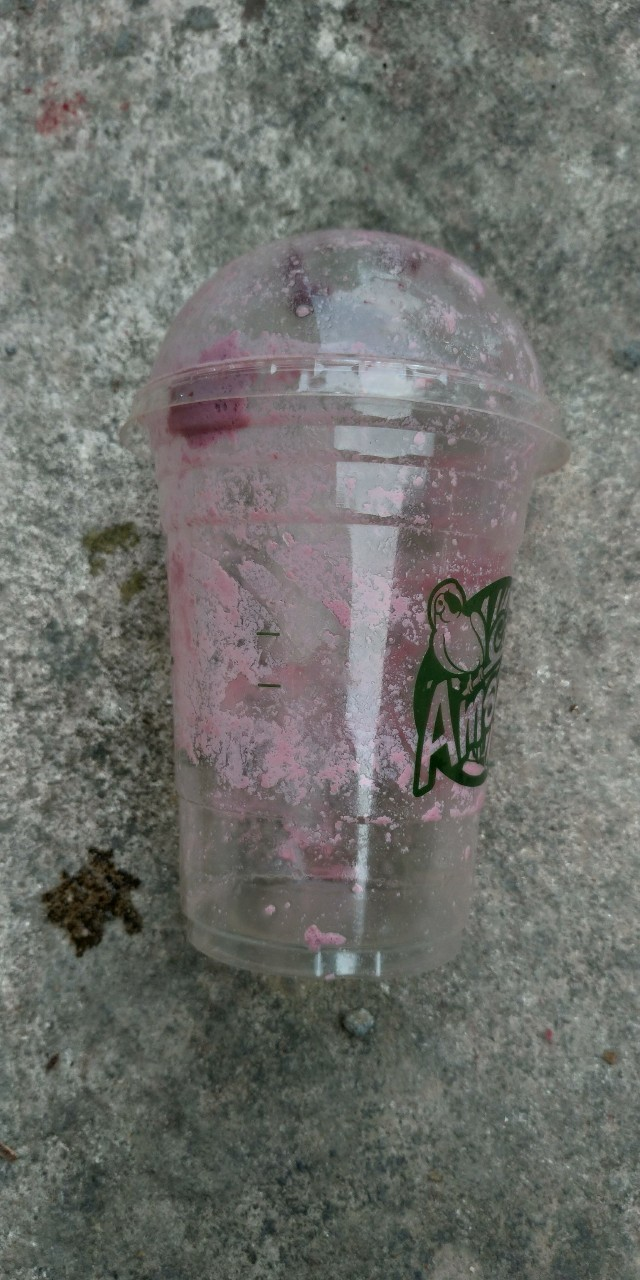PlasticCup: (135, 219, 566, 976)
